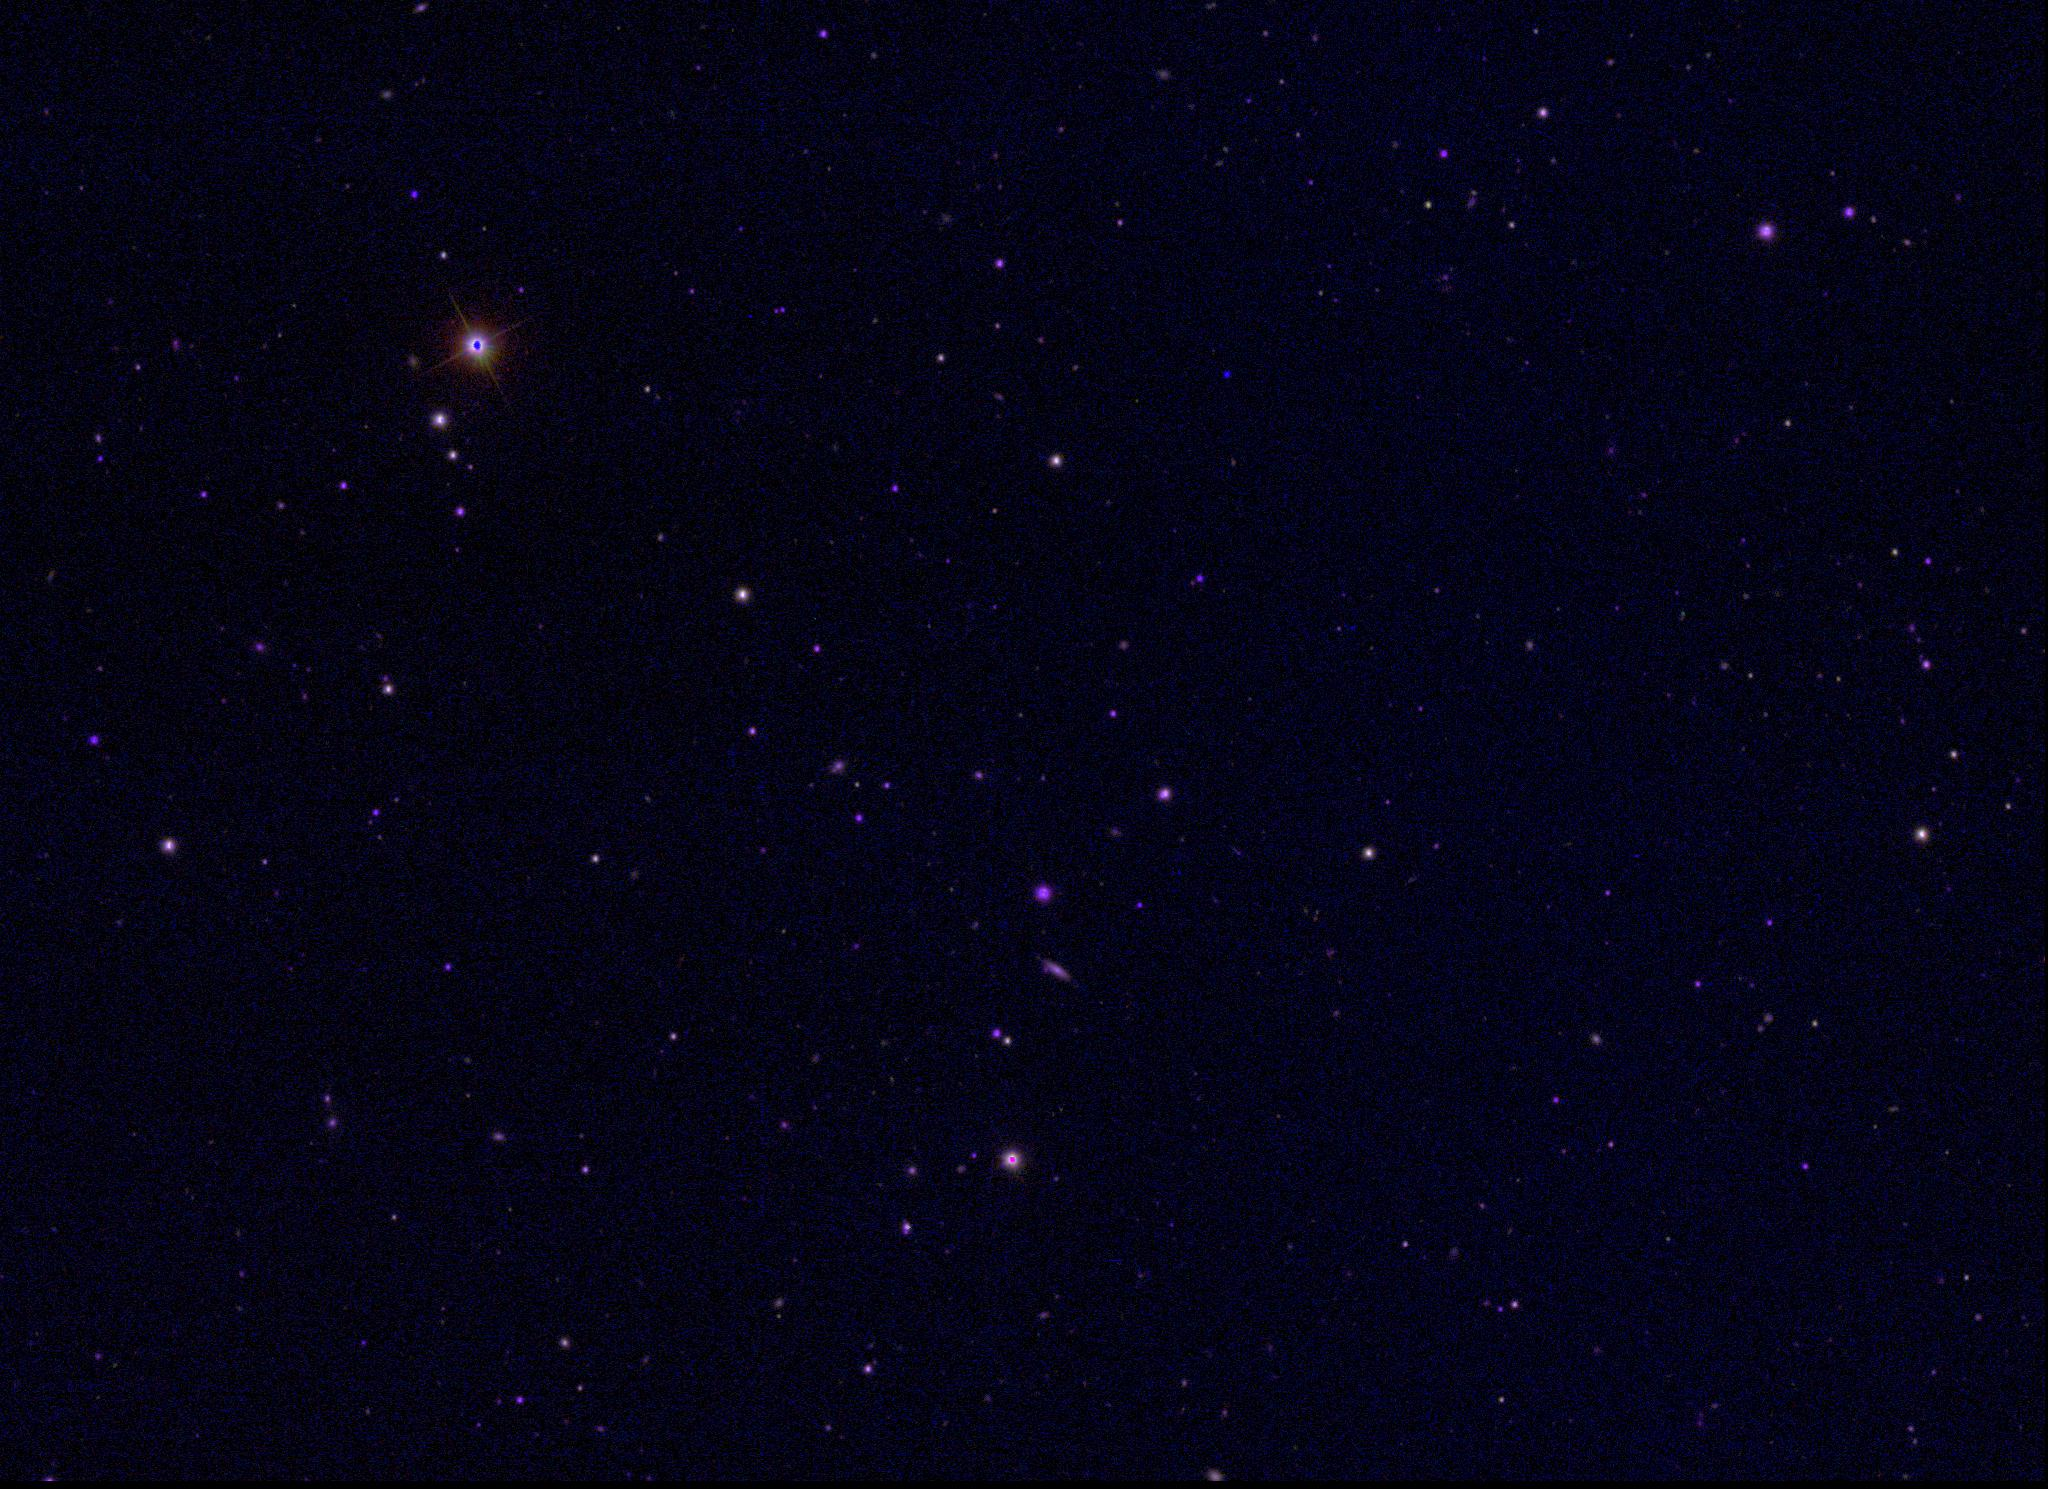L: (1220, 367, 1234, 382)
